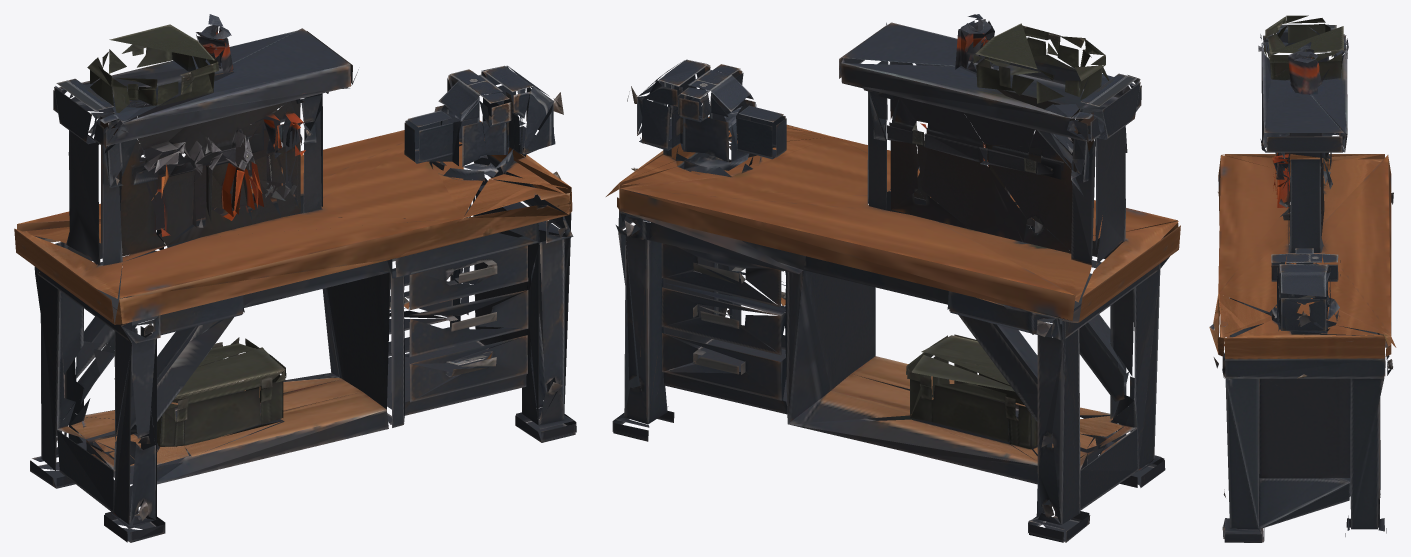
The model's file is workbench_iron_lod2.glb.
The picture shows the model from 3 angles, left to right: view 1: azimuth 30°, elevation 25°; view 2: azimuth 150°, elevation 25°; view 3: azimuth 270°, elevation 25°; orthographic projection. The views are drawn at different scales.
Visible parts, largest first — view 1: LOD2; view 2: LOD2; view 3: LOD2.
Part boxes in pixels (box(x1,y1,x2,y2)): LOD2: box(14, 14, 576, 542); LOD2: box(606, 14, 1180, 542); LOD2: box(1209, 15, 1396, 542).
Bounding box in the file's own units: 1.82 × 1.59 × 0.7149.
Materials: 1 (1 with a texture image).
